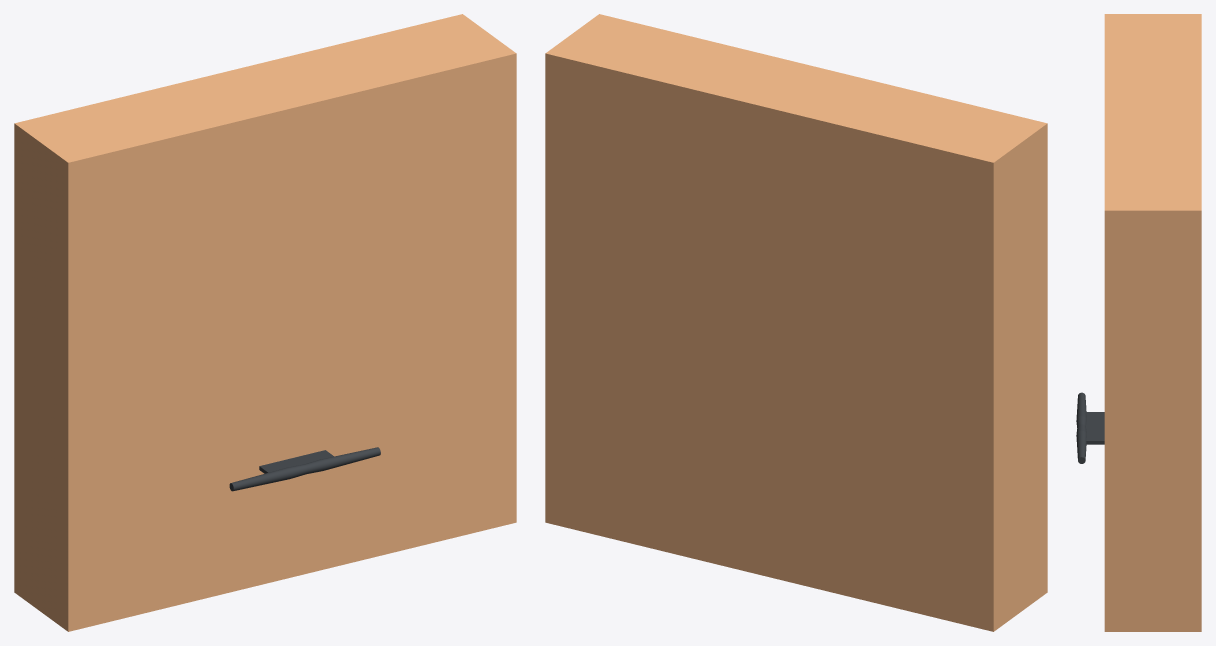
Rendered from krishna_cleat_base.obj.
3 renders of one model, left to right at view 1: azimuth 30°, elevation 25°; view 2: azimuth 150°, elevation 25°; view 3: azimuth 270°, elevation 25°, orthographic. The views are drawn at different scales.
Parts seen in each view (by area): view 1: mesh10, mesh13, mesh12; view 2: mesh15, mesh13, mesh12; view 3: mesh11, mesh12, mesh5, mesh1, mesh8.
Part boxes in pixels (x1,y1,x2,y2): mesh10: [68, 53, 516, 631]; mesh13: [14, 123, 68, 631]; mesh12: [15, 14, 516, 162]; mesh15: [545, 53, 993, 631]; mesh13: [993, 123, 1047, 631]; mesh12: [545, 14, 1046, 162]; mesh11: [1104, 210, 1201, 631]; mesh12: [1104, 14, 1201, 210]; mesh5: [1086, 412, 1104, 440]; mesh1: [1076, 430, 1086, 459]; mesh8: [1076, 392, 1086, 418].
Size of the model in its own units: 0.6096 by 0.6096 by 0.164.
